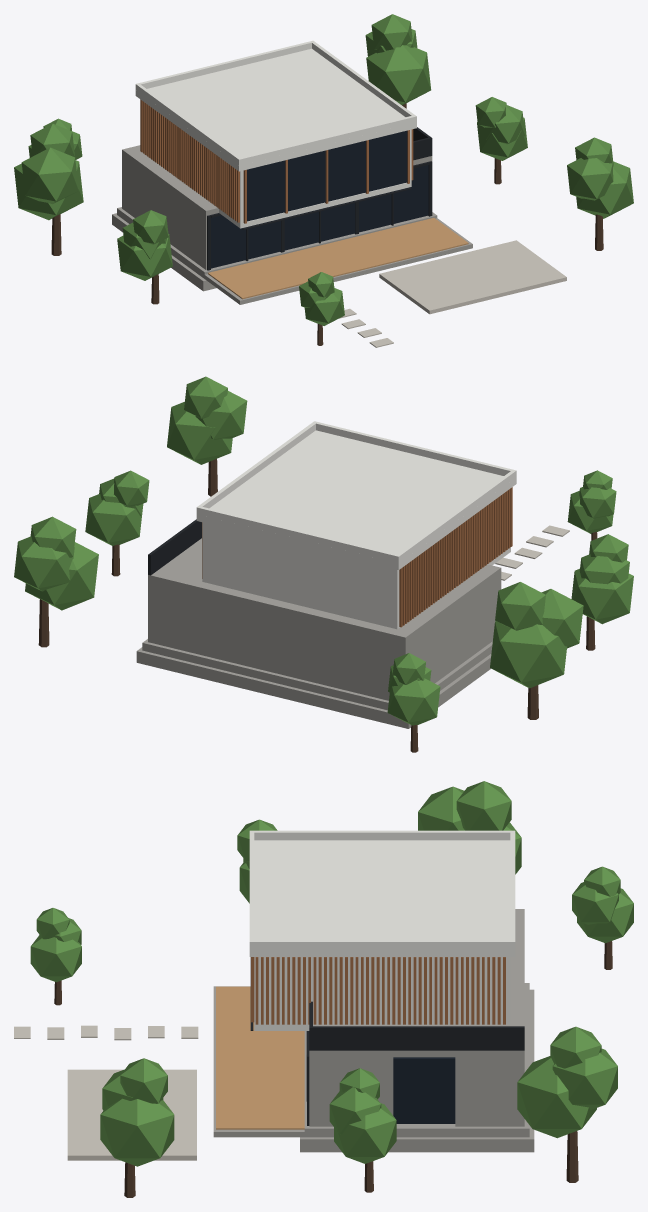
Rendered from house.glb.
3 renders of one model, top to bottom at view 1: azimuth 30°, elevation 25°; view 2: azimuth 150°, elevation 25°; view 3: azimuth 270°, elevation 25°, orthographic. The views are drawn at different scales.
Parts seen in each view (by area): view 1: roof, front_glass_upper, deck, pool_coping, front_glass_ground, cladding, parapet, crown_1, crown_3, ground_walls, crown_6, crown_0 (+10 smaller); view 2: roof, ground_walls, upper_walls, crown_1, cladding, parapet, first_slab, crown_3, crown_6, footings, crown_0, crown_4 (+4 smaller); view 3: roof, cladding, deck, upper_walls, ground_walls, crown_3, parapet, crown_6, pool_coping, roof_terrace_rail, crown_4, east_window (+9 smaller).
Part boxes in pixels (x1,y1,x2,y2): roof: (135, 48, 416, 171); front_glass_upper: (247, 130, 407, 221); deck: (208, 218, 468, 299); pool_coping: (379, 240, 566, 314); front_glass_ground: (211, 165, 428, 268); cladding: (140, 99, 413, 222); parapet: (135, 40, 416, 165); crown_1: (14, 123, 83, 220); crown_3: (365, 14, 431, 105); ground_walls: (122, 155, 432, 269); crown_6: (567, 137, 633, 218); crown_0: (117, 210, 172, 280); roof: (196, 430, 516, 569); ground_walls: (148, 573, 501, 700); upper_walls: (202, 522, 399, 629); crown_1: (490, 582, 583, 688); cladding: (202, 487, 512, 627); parapet: (196, 421, 516, 563); first_slab: (148, 538, 501, 643); crown_3: (14, 516, 98, 610); crown_6: (167, 376, 247, 464); footings: (136, 647, 491, 728); crown_0: (571, 534, 633, 624); crown_4: (85, 470, 149, 545); roof: (249, 840, 515, 956); cladding: (255, 957, 505, 1024); deck: (216, 986, 304, 1129); upper_walls: (254, 957, 510, 1024); ground_walls: (309, 1057, 524, 1126); crown_3: (517, 1026, 617, 1138); parapet: (249, 830, 515, 949); crown_6: (100, 1058, 174, 1166); pool_coping: (67, 1069, 196, 1160); roof_terrace_rail: (309, 1001, 524, 1050); crown_4: (329, 1068, 396, 1163); east_window: (393, 1057, 455, 1123).
Size of the model in its own units: 29.81 by 8.4 by 25.92.
